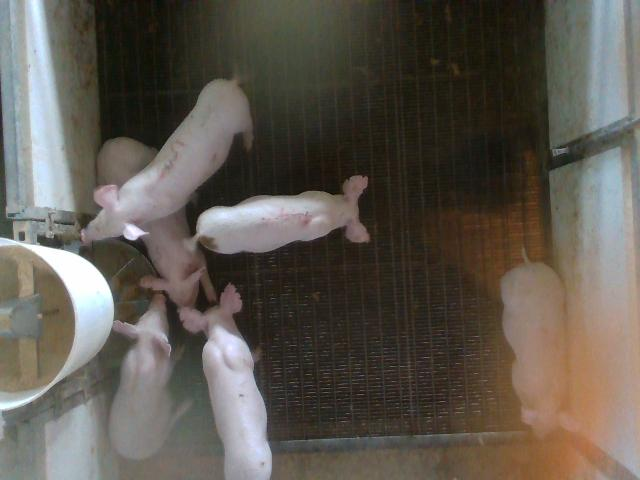pig-3: (82, 79, 252, 242)
pig-4: (500, 249, 579, 438)
pig-5: (194, 175, 370, 253)
